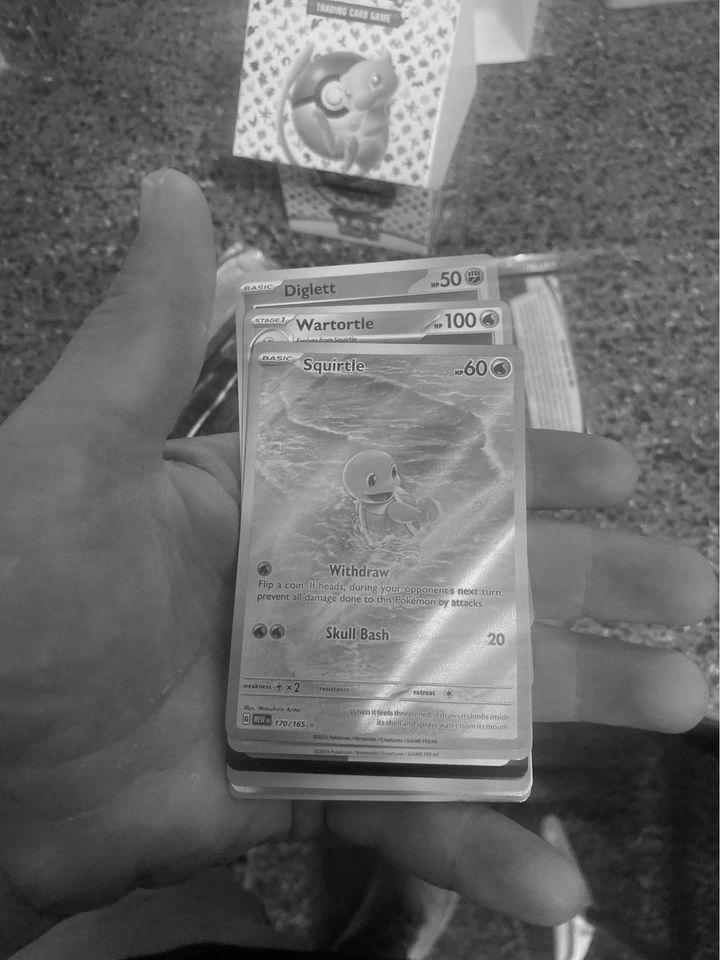card: (222, 341, 532, 752)
